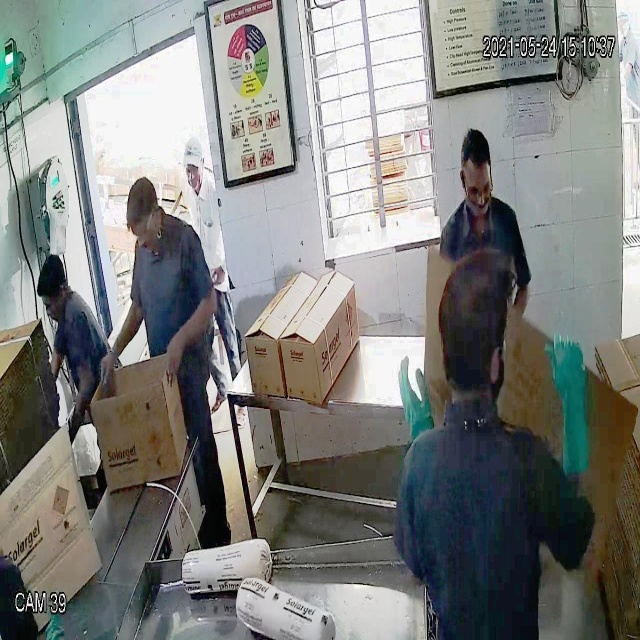Gafas: (461, 166, 497, 206)
